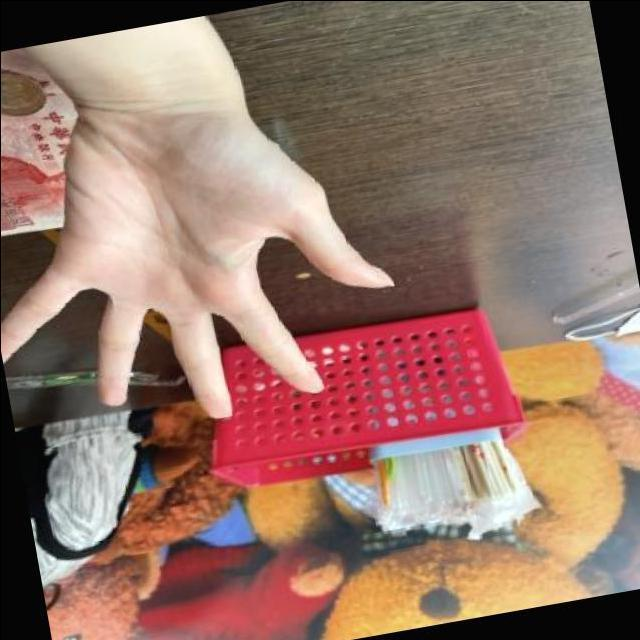hand: (0, 45, 422, 476)
